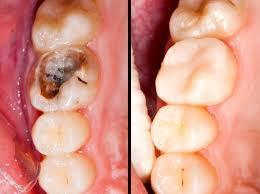Caries: (176, 166, 188, 188)
Cavity: (38, 44, 91, 100)
